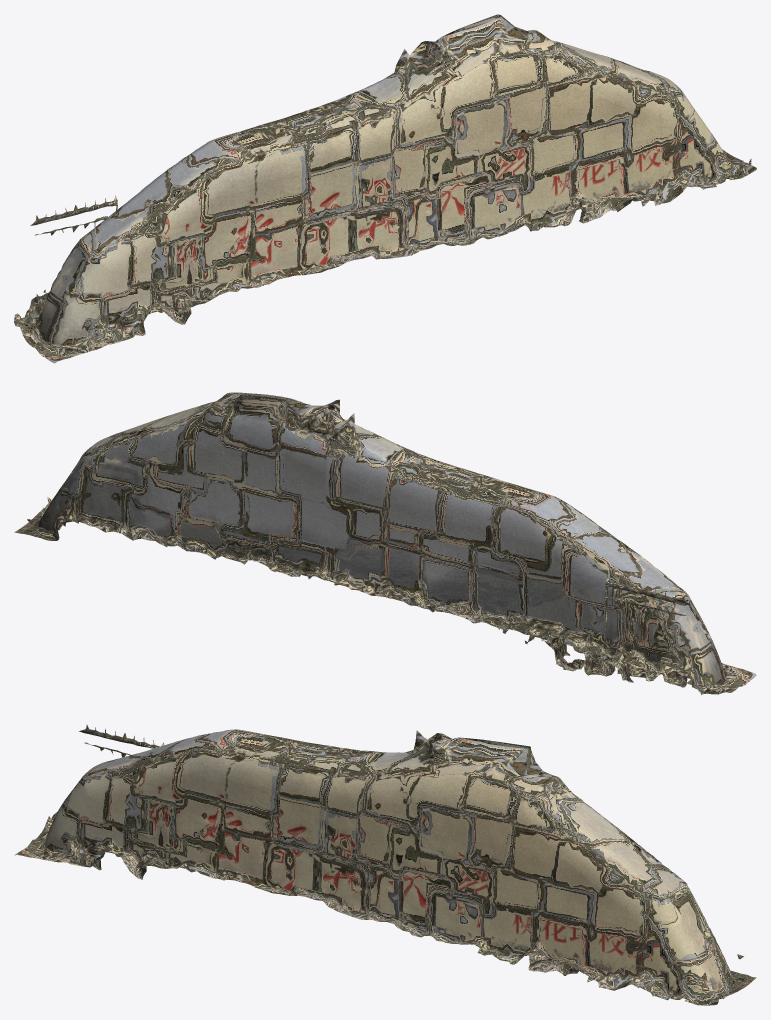
The model's file is rock.obj.
The picture shows the model from 3 angles, top to bottom: view 1: azimuth 30°, elevation 25°; view 2: azimuth 150°, elevation 25°; view 3: azimuth 330°, elevation 25°; orthographic projection. The views are drawn at different scales.
Bounding box in the file's own units: 0.7669 × 0.2058 × 0.099.
1 material, 1 textured.
